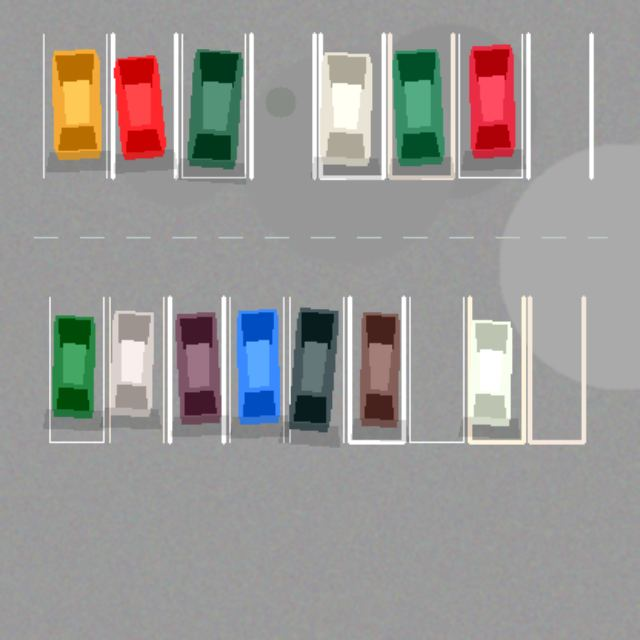space-empty: (251, 34, 314, 177), (528, 34, 591, 177), (409, 297, 463, 442), (529, 297, 583, 442)
space-occupied: (458, 34, 522, 177), (43, 34, 106, 177), (112, 34, 175, 177), (182, 34, 245, 177), (320, 34, 383, 177), (389, 34, 452, 177), (49, 297, 103, 442), (109, 297, 163, 442), (169, 297, 223, 442), (229, 297, 283, 442), (289, 297, 343, 442), (349, 297, 403, 442), (469, 297, 523, 442)
